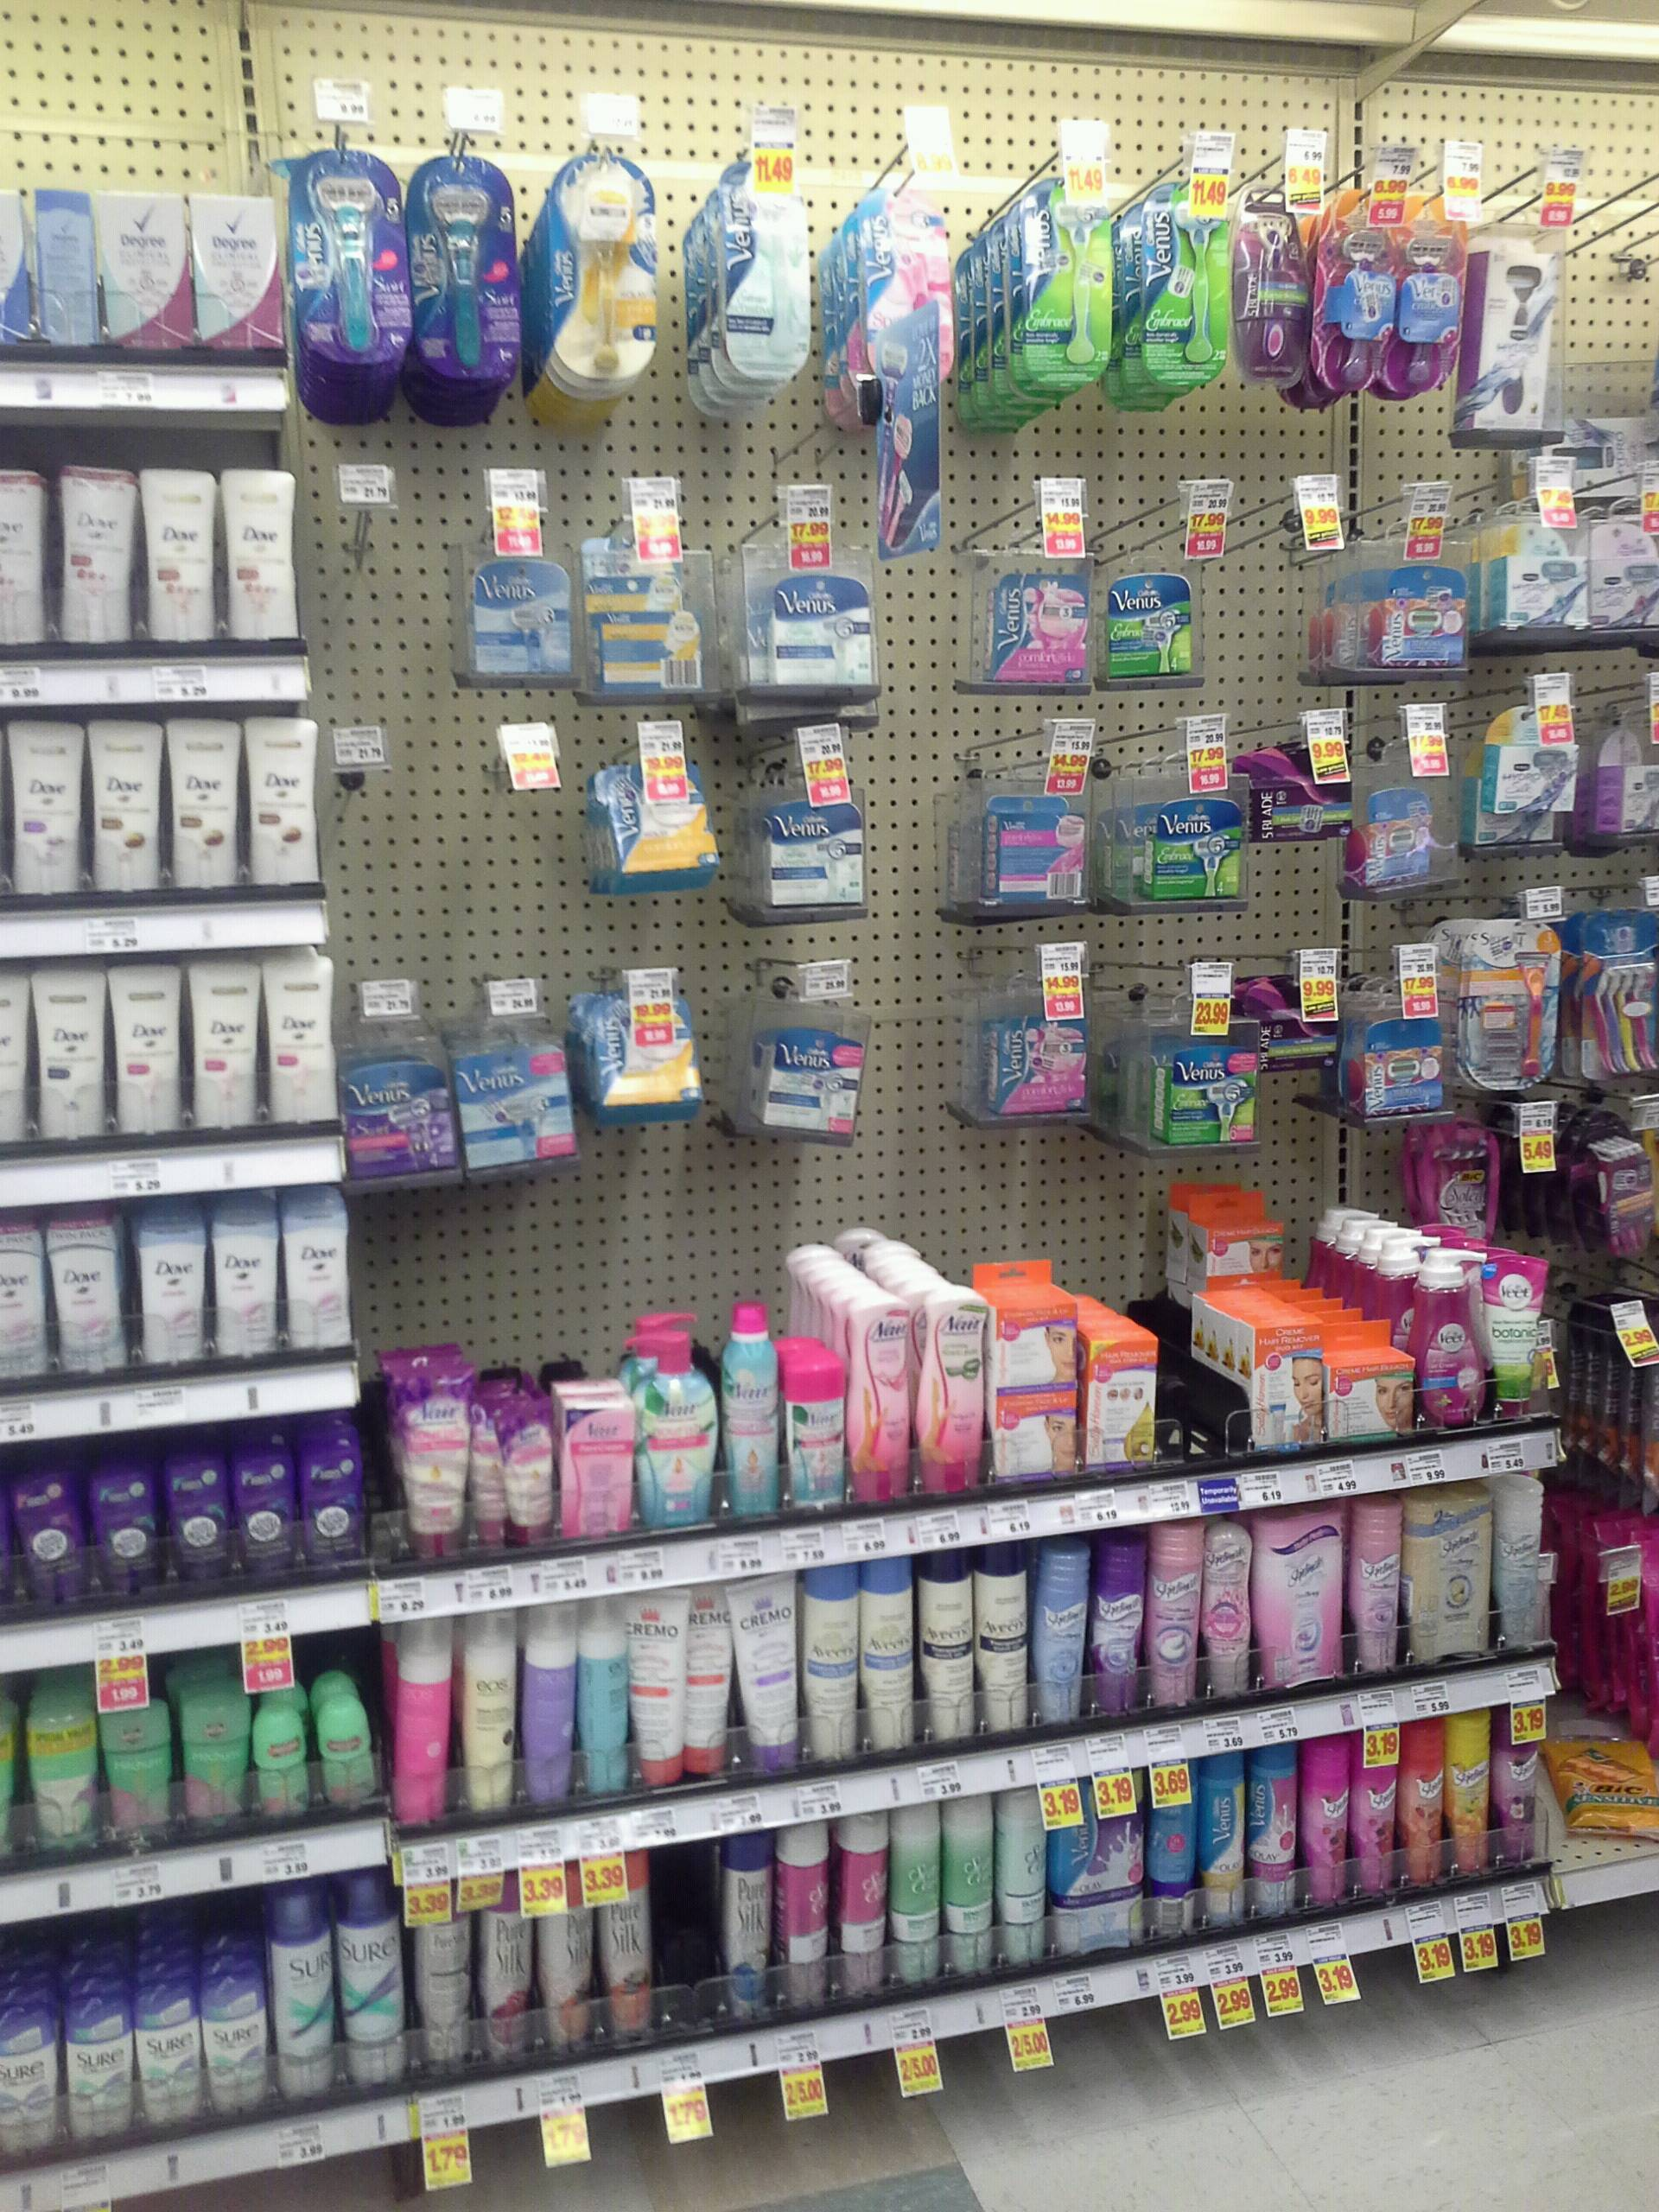product: (547, 152, 655, 381), (413, 157, 523, 381), (296, 146, 401, 373), (1471, 226, 1570, 455), (582, 536, 716, 704), (1019, 176, 1115, 385), (849, 186, 957, 369), (746, 566, 887, 704), (589, 752, 718, 900), (1143, 174, 1230, 390), (589, 977, 706, 1134), (638, 1322, 718, 1548), (380, 1357, 465, 1568), (737, 1014, 877, 1143), (1049, 1768, 1140, 1961), (993, 1292, 1079, 1494), (460, 549, 580, 691), (913, 1280, 985, 1517), (1256, 1507, 1342, 1703), (1389, 186, 1466, 404), (1466, 914, 1556, 1097), (971, 787, 1098, 916), (457, 1042, 580, 1174), (1134, 1028, 1265, 1151), (192, 190, 282, 368), (139, 458, 221, 653), (1406, 1484, 1488, 1677), (56, 458, 134, 657), (978, 563, 1096, 691), (753, 791, 871, 918), (971, 1007, 1100, 1123), (244, 707, 322, 899), (99, 183, 188, 352), (864, 385, 948, 561), (1316, 183, 1384, 399), (1122, 794, 1248, 911), (225, 458, 301, 648), (270, 1879, 333, 2111), (340, 1871, 404, 2095), (87, 712, 164, 899), (1553, 1730, 1659, 1864), (345, 1052, 451, 1186), (3, 712, 78, 902), (45, 1205, 124, 1386), (849, 1284, 908, 1522), (108, 956, 183, 1143), (1082, 1327, 1169, 1487), (166, 709, 239, 899), (31, 960, 103, 1153), (389, 1608, 450, 1834), (261, 951, 338, 1130), (1237, 183, 1303, 390), (457, 1601, 516, 1831), (1473, 704, 1586, 824), (1359, 554, 1473, 674), (1486, 507, 1591, 636), (1420, 1238, 1488, 1435), (1572, 1113, 1659, 1266), (5, 1461, 89, 1620), (1581, 909, 1659, 1078), (596, 1841, 659, 2050), (413, 1871, 474, 2083), (723, 1292, 777, 1531), (190, 951, 258, 1137), (741, 1571, 802, 1778), (521, 1601, 577, 1827), (21, 1695, 94, 1867), (136, 1193, 204, 1376), (920, 1541, 978, 1757), (1241, 1313, 1323, 1465), (1103, 571, 1209, 688), (209, 1191, 279, 1367), (101, 1689, 174, 1857), (481, 1865, 538, 2076), (714, 1827, 774, 2031), (1351, 1014, 1457, 1125), (559, 1385, 631, 1550), (805, 1562, 859, 1777), (861, 1554, 915, 1764), (835, 1804, 890, 2006), (26, 185, 94, 348), (580, 1594, 631, 1813), (66, 1989, 132, 2156), (636, 1585, 687, 1803), (742, 188, 805, 362), (979, 1534, 1032, 1743), (1495, 1470, 1553, 1660), (1344, 1493, 1399, 1688), (1249, 745, 1361, 843), (542, 1858, 596, 2059), (781, 1346, 840, 1527), (1490, 1249, 1549, 1430), (202, 1968, 270, 2125), (286, 1190, 349, 1359), (303, 1413, 368, 1573), (181, 1684, 246, 1844), (96, 1454, 164, 1606), (1147, 1517, 1197, 1721), (1035, 1534, 1087, 1731), (1093, 1529, 1145, 1723), (779, 1818, 829, 2015), (0, 465, 51, 658), (169, 1444, 234, 1595), (894, 1796, 943, 1994), (1415, 1129, 1514, 1226), (1330, 1339, 1413, 1454), (136, 1982, 199, 2135), (1249, 1738, 1300, 1928), (312, 1684, 380, 1822), (1147, 1756, 1195, 1946), (690, 1578, 734, 1789), (1589, 721, 1659, 852), (0, 1996, 56, 2158), (500, 1397, 556, 1557), (239, 1435, 300, 1580), (945, 1784, 988, 1984), (1204, 1514, 1248, 1714), (1364, 784, 1445, 892), (253, 1695, 312, 1839), (1000, 1778, 1044, 1973), (1305, 1728, 1349, 1921), (1595, 505, 1659, 636), (1201, 1749, 1246, 1933), (1354, 1717, 1398, 1907), (1575, 408, 1659, 505), (1187, 1204, 1295, 1278), (1499, 1695, 1542, 1879), (1265, 965, 1344, 1062), (0, 1209, 40, 1397), (1401, 1710, 1441, 1895), (1450, 1702, 1488, 1881), (467, 1378, 498, 1564)
